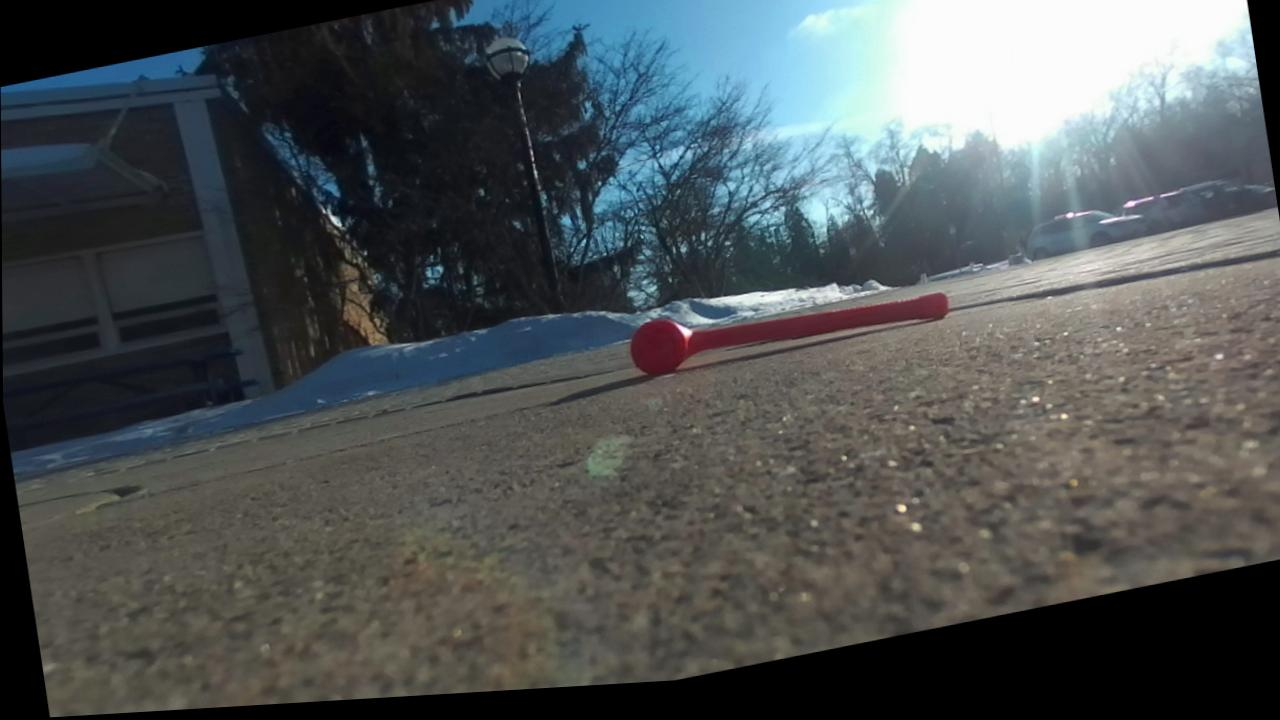mallet: (629, 292, 947, 375)
